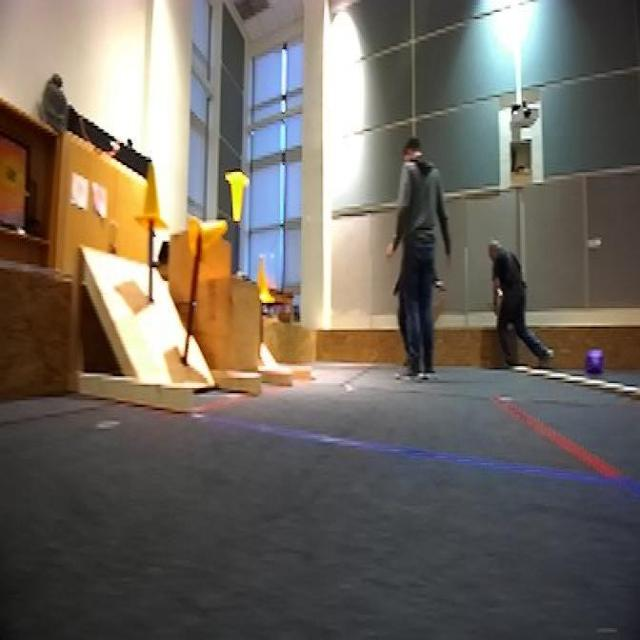frc_cone: (133, 160, 168, 233), (186, 213, 228, 264), (226, 167, 250, 224), (257, 249, 278, 308)
frc_cube: (586, 349, 606, 381)
